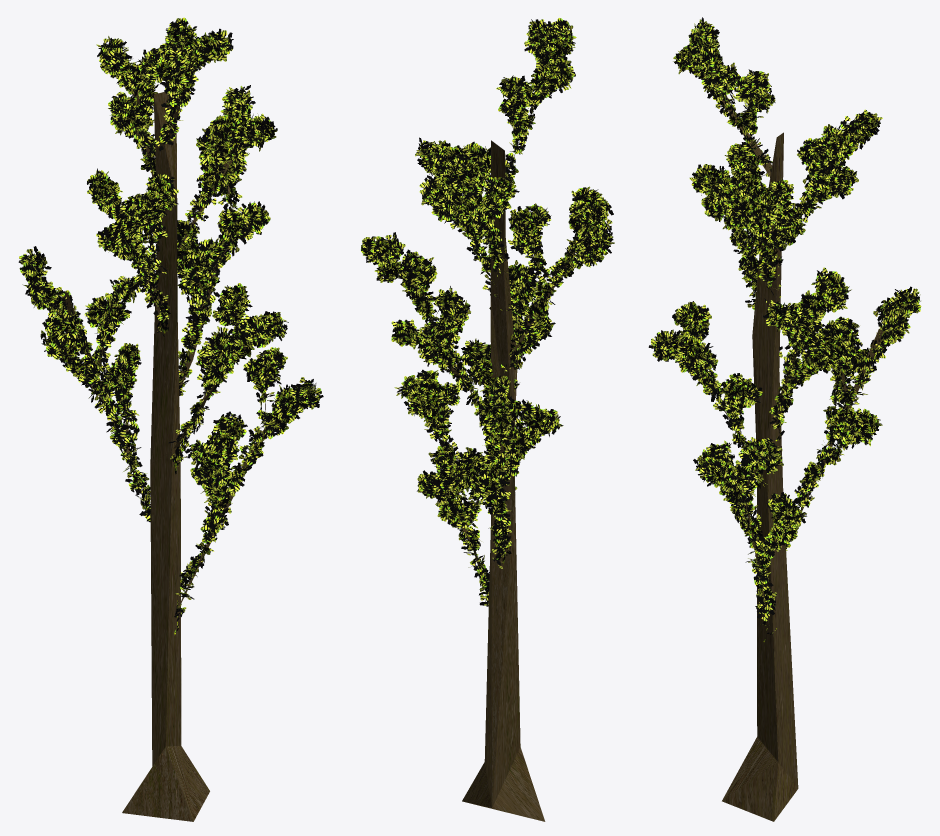
Rendered from baldcypress_v02_LOD1.fbx.
3 views of the same model, side by side, from view 1: azimuth 30°, elevation 25°; view 2: azimuth 150°, elevation 25°; view 3: azimuth 270°, elevation 25° (orthographic). The views are drawn at different scales.
Visible parts, largest first — view 1: baldcypress_v02_LOD1; view 2: baldcypress_v02_LOD1; view 3: baldcypress_v02_LOD1.
Boxes of the visible parts, x1=… form: baldcypress_v02_LOD1: x1=18, y1=17, x2=323, y2=821; baldcypress_v02_LOD1: x1=360, y1=18, x2=614, y2=821; baldcypress_v02_LOD1: x1=648, y1=17, x2=921, y2=821.
Size of the model in its own units: 868 by 987 by 3014.
2 materials, 2 textured.
